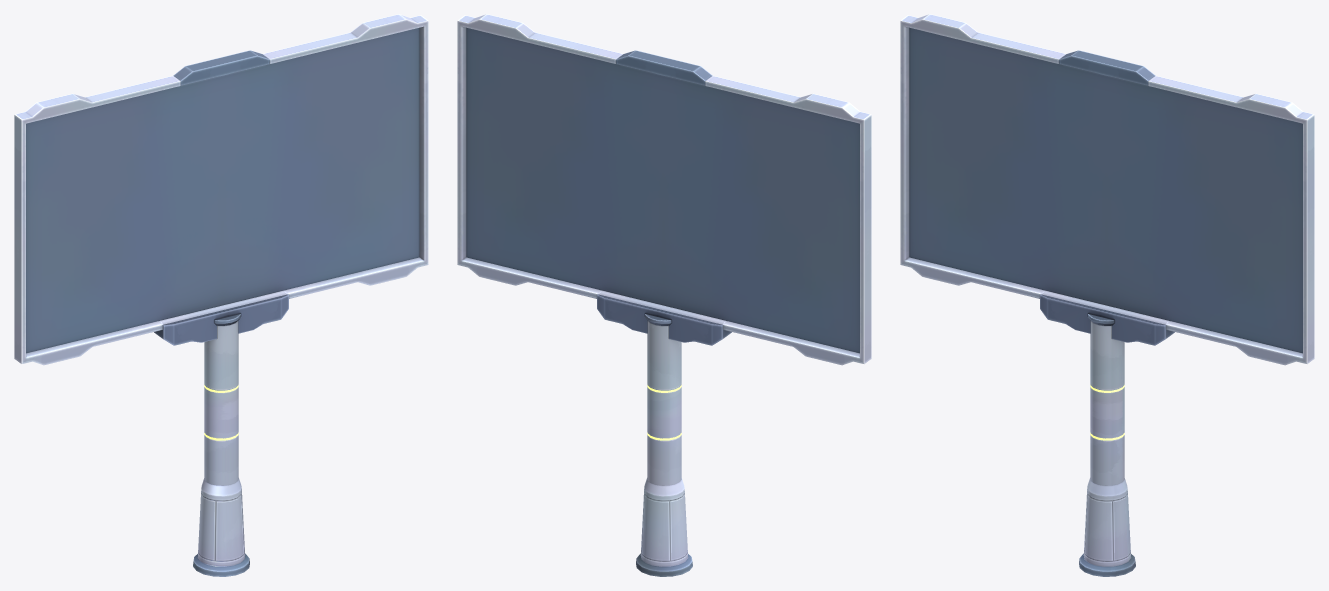
File: obj_billboard02.gltf
The picture shows the model from 3 angles, left to right: view 1: azimuth 30°, elevation 25°; view 2: azimuth 150°, elevation 25°; view 3: azimuth 330°, elevation 25°; orthographic projection.
Visible parts, largest first — view 1: obj_billboard02; view 2: obj_billboard02; view 3: obj_billboard02.
Boxes of the visible parts, x1,y1,x2,y2 form: obj_billboard02: (14, 14, 428, 576); obj_billboard02: (457, 14, 871, 576); obj_billboard02: (900, 14, 1314, 576).
Size of what is drawn, in the model's own units: 2.98 by 3.53 by 0.366.
Materials: 2 (1 with a texture image).
